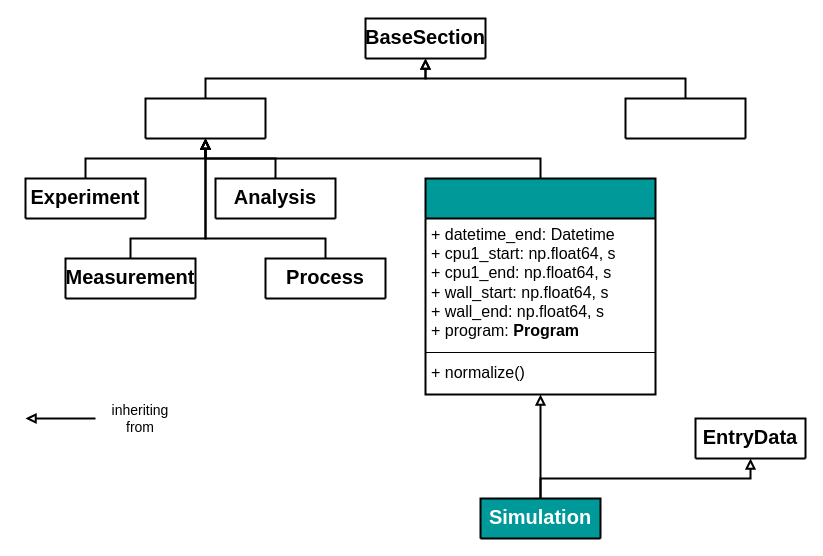
Image size: 823x556. Some labels were removed from this diagram. The box of each missing label's shape, as (x1, y1, x2, y2) in pixels:
Activity: (144, 97, 266, 139)
BaseSimulation: (424, 177, 656, 395)
Entity: (624, 97, 746, 139)
